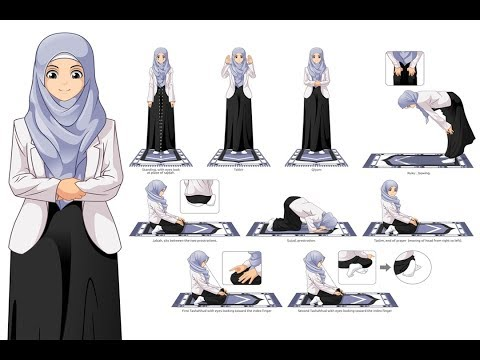ruku: (391, 86, 477, 169)
